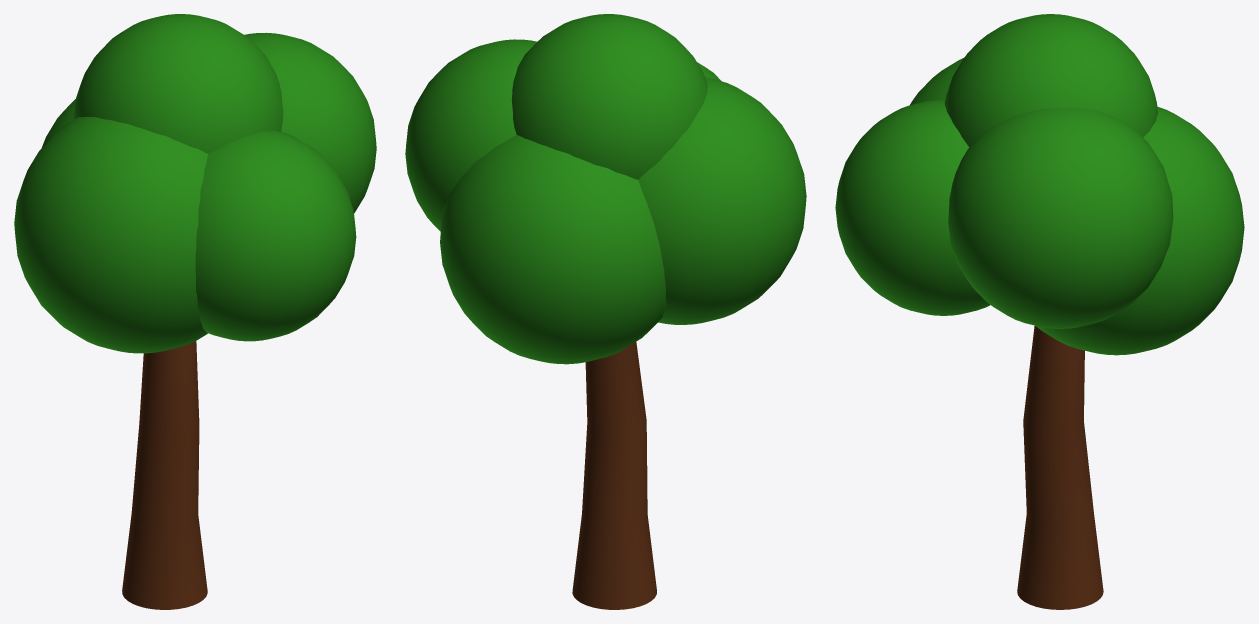
The model's file is tree.fbx.
3 views of the same model, side by side, from view 1: azimuth 30°, elevation 25°; view 2: azimuth 150°, elevation 25°; view 3: azimuth 270°, elevation 25° (orthographic).
Visible parts, largest first — view 1: Leaf, Log; view 2: Leaf, Log; view 3: Leaf, Log.
Part boxes in pixels (left/top/right/bottom): Leaf: left=14, top=14, right=376, bottom=353; Log: left=122, top=341, right=207, bottom=609; Leaf: left=405, top=14, right=806, bottom=364; Log: left=572, top=342, right=656, bottom=609; Leaf: left=835, top=14, right=1244, bottom=355; Log: left=1017, top=326, right=1103, bottom=609.
Bounding box in the file's own units: 474 × 731 × 473.
